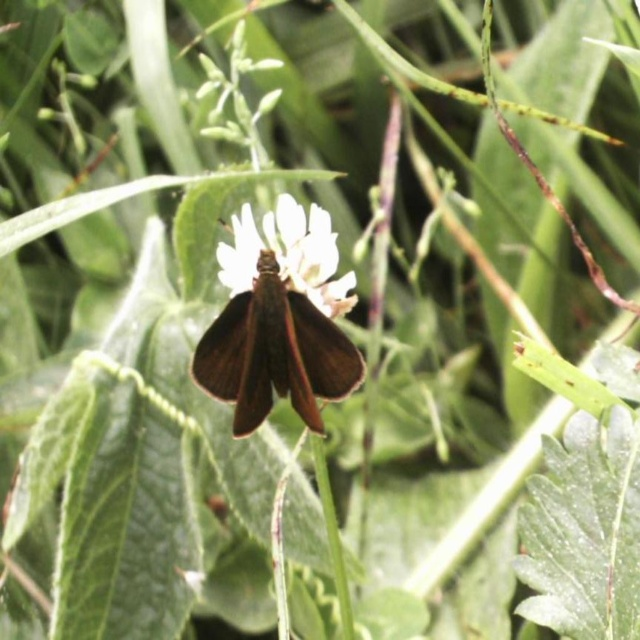Moths and butterflies: (188, 212, 369, 438)
